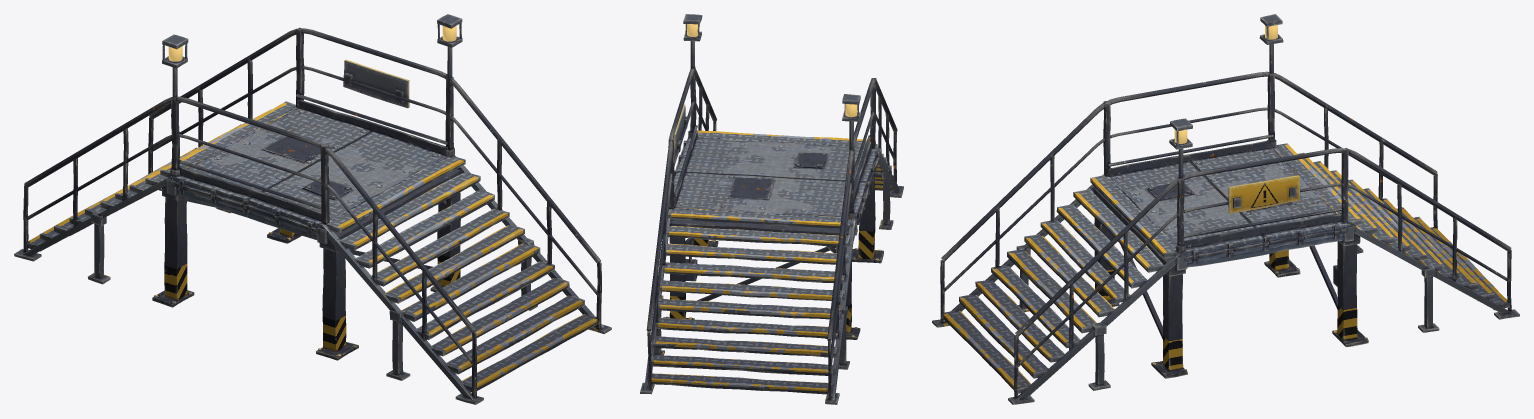
3 views of the same model, side by side, from view 1: azimuth 30°, elevation 25°; view 2: azimuth 150°, elevation 25°; view 3: azimuth 270°, elevation 25° (orthographic). The views are drawn at different scales.
Parts seen in each view (by area): view 1: Stairs, Railings, Span, Fittings, Legs, WarningSign; view 2: Stairs, Span, Railings, Legs, Fittings, Bulbs, WarningSign; view 3: Stairs, Railings, Span, Fittings, Legs, WarningSign.
Part boxes in pixels (x1,y1,x2,y2): Stairs: [14, 101, 611, 404]; Railings: [23, 27, 601, 398]; Span: [172, 108, 446, 239]; Fittings: [162, 14, 462, 236]; Legs: [152, 169, 461, 360]; WarningSign: [343, 59, 409, 108]; Stairs: [640, 130, 903, 404]; Span: [668, 137, 877, 220]; Railings: [646, 68, 897, 400]; Legs: [661, 165, 883, 339]; Fittings: [674, 14, 880, 281]; Bulbs: [687, 24, 857, 117]; WarningSign: [673, 104, 685, 156]; Stairs: [932, 143, 1519, 404]; Railings: [940, 71, 1511, 398]; Span: [1109, 148, 1347, 267]; Fittings: [1108, 14, 1346, 286]; Legs: [1093, 188, 1368, 378]; WarningSign: [1228, 175, 1299, 213].
Size of the model in its own units: 15.96 by 10.89 by 23.13.
7 materials, 7 textured.
